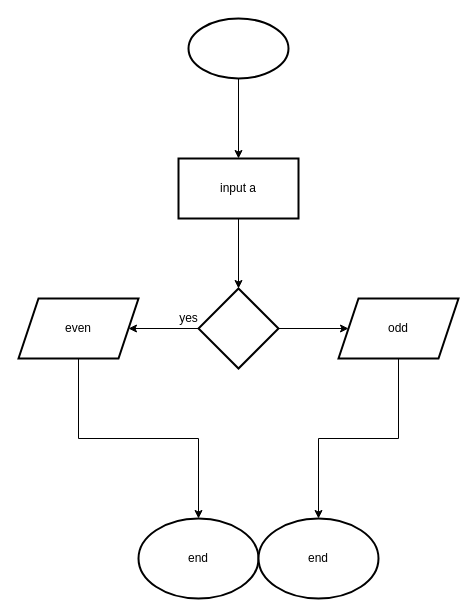
Image size: 476x616. Some labels were removed from this diagram. The shapes that lost their labels are listed below. From the top down, each one's centre as x and y in pixels, then its label:
At [238,48]: "Start".
At [238,328]: "a%2==0".
